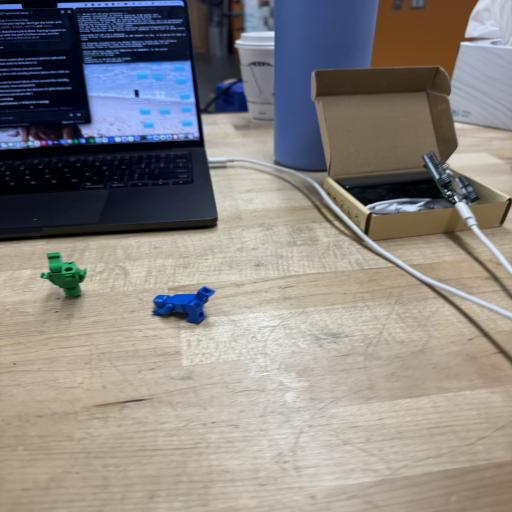blue-minifig: (153, 286, 215, 323)
green-minifig: (41, 253, 87, 297)
